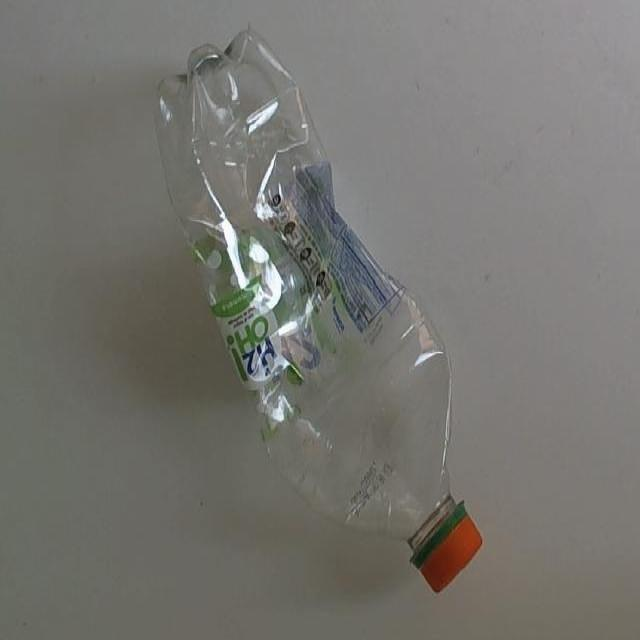defect: (152, 21, 485, 598)
